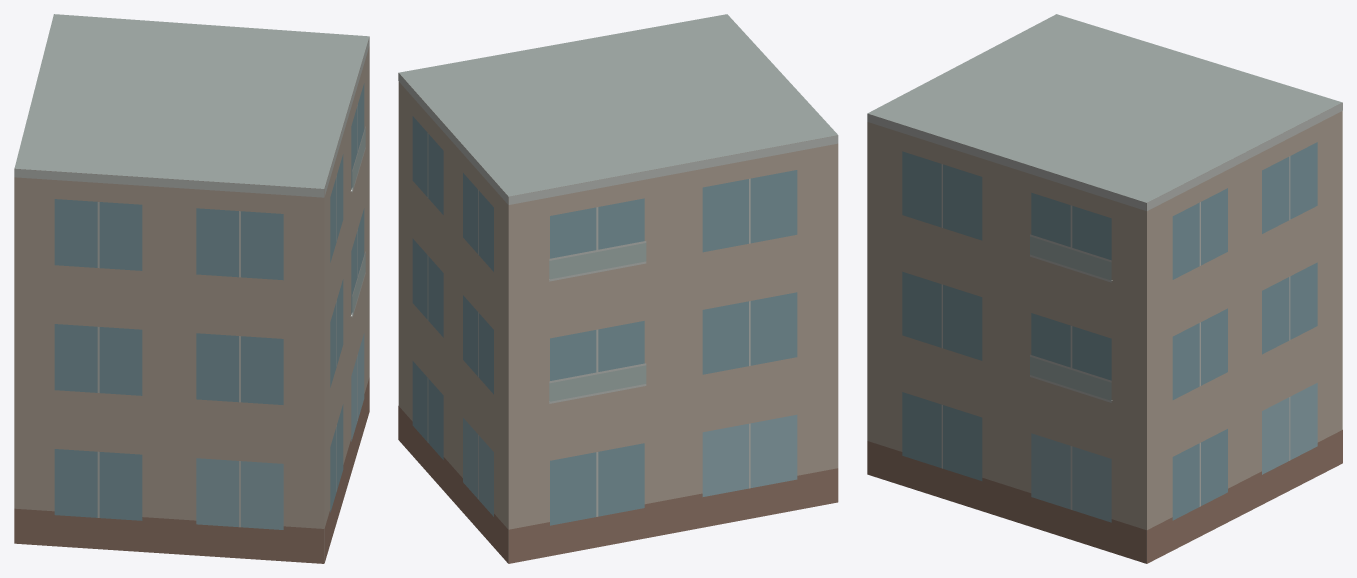
Rendered from survey-upis-33014240.glb.
3 views of the same model, side by side, from view 1: azimuth 30°, elevation 25°; view 2: azimuth 150°, elevation 25°; view 3: azimuth 270°, elevation 25° (orthographic). The views are drawn at different scales.
Parts seen in each view (by area): view 1: survey-upis-33014240.tmp; view 2: survey-upis-33014240.tmp; view 3: survey-upis-33014240.tmp.
Boxes of the visible parts, x1,y1,x2,y2 form: survey-upis-33014240.tmp: (14, 14, 369, 563); survey-upis-33014240.tmp: (398, 14, 838, 563); survey-upis-33014240.tmp: (867, 14, 1342, 563).
Size of the model in its own units: 11.85 by 10.55 by 12.6.
